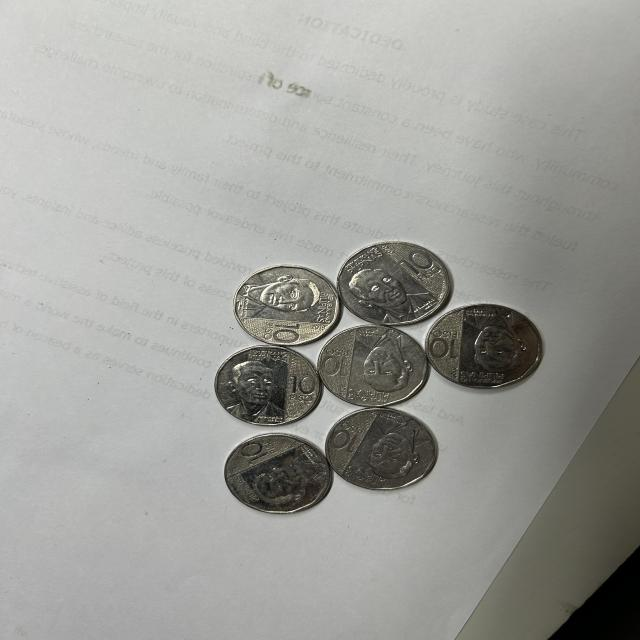10_New_Front: (253, 314, 308, 347), (396, 246, 443, 284), (235, 436, 281, 464), (434, 328, 460, 370), (331, 417, 361, 452), (327, 343, 348, 382), (290, 369, 314, 401)
